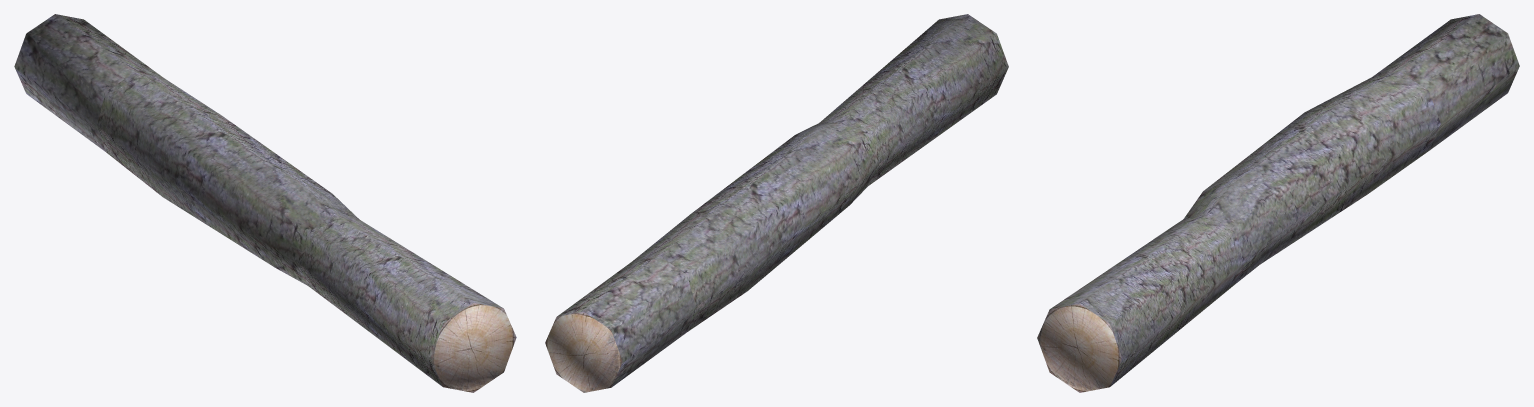
The model's file is log2.obj.
The picture shows the model from 3 angles, left to right: view 1: azimuth 30°, elevation 25°; view 2: azimuth 150°, elevation 25°; view 3: azimuth 330°, elevation 25°; orthographic projection. The views are drawn at different scales.
Size of the model in its own units: 12.22 by 11.89 by 91.22.
Materials: 1 (1 with a texture image).
